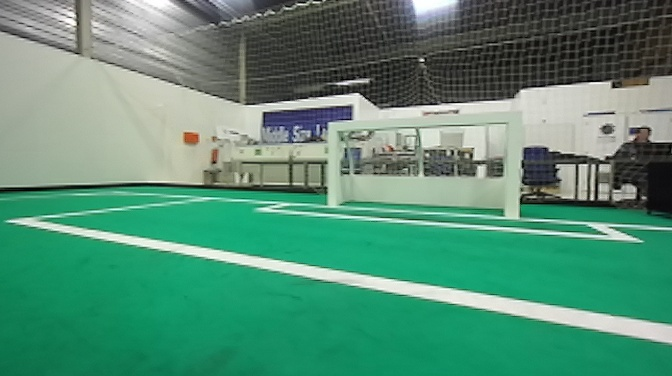goalpost: (502, 108, 526, 219), (324, 121, 342, 211)
